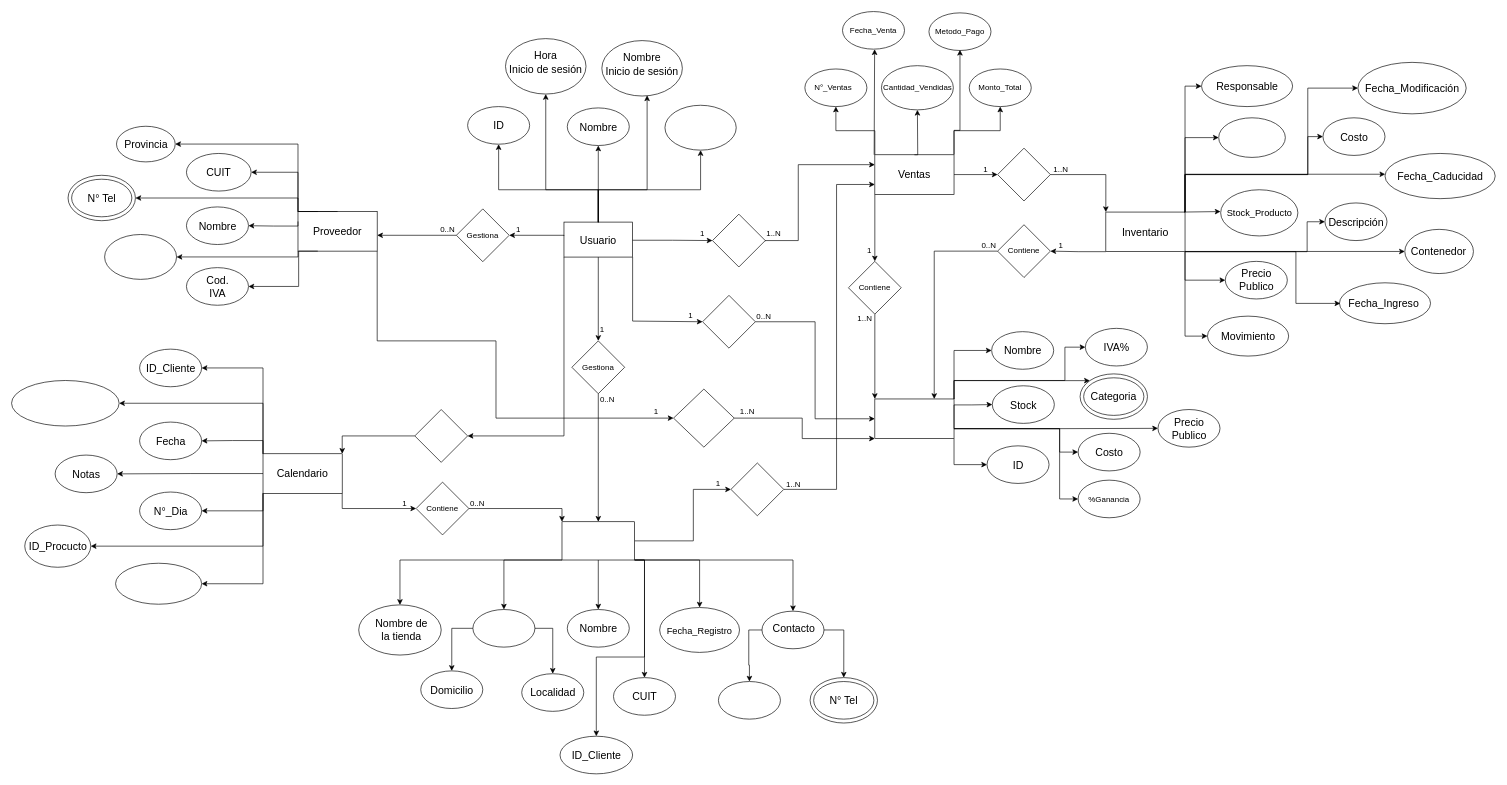
Some shapes in this 1507 by 785 pixel diagram are drawn without their labels. Here are the shapes that lost their labels. From the top down, the centre of each, then its label:
At (700,127): "Contraseña".
At (1251,137): "ID_Prodcuto".
At (1023,174): "Impacta".
At (140,256): "Dirección".
At (738,240): "Registra".
At (728,321): "Posee".
At (65,403): "Dia_de_la_semana".
At (703,417): "Proporciona".
At (914,418): "Producto".
At (441,435): "Visualiza".
At (757,489): "Realizo".
At (598,540): "Cliente".
At (158,583): "ID_Calendario".
At (503,628): "Ubicacion".
At (749,700): "Email".
